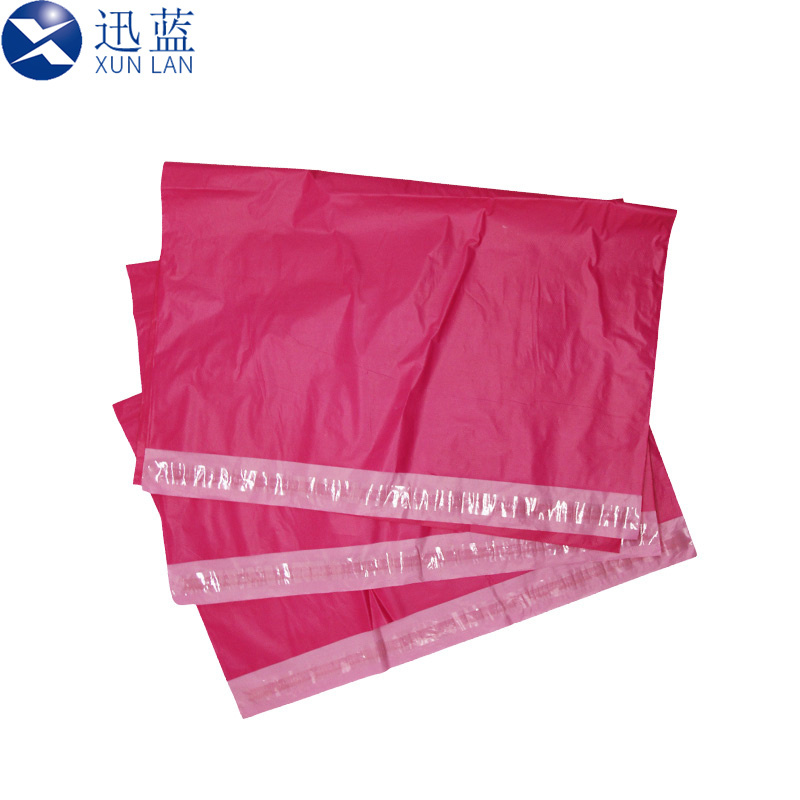Parcel: (114, 163, 697, 717)
